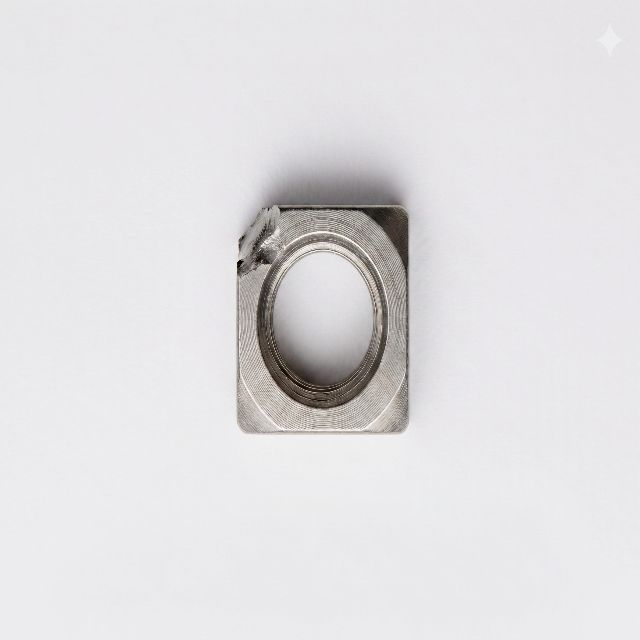defect: (232, 198, 285, 279)
